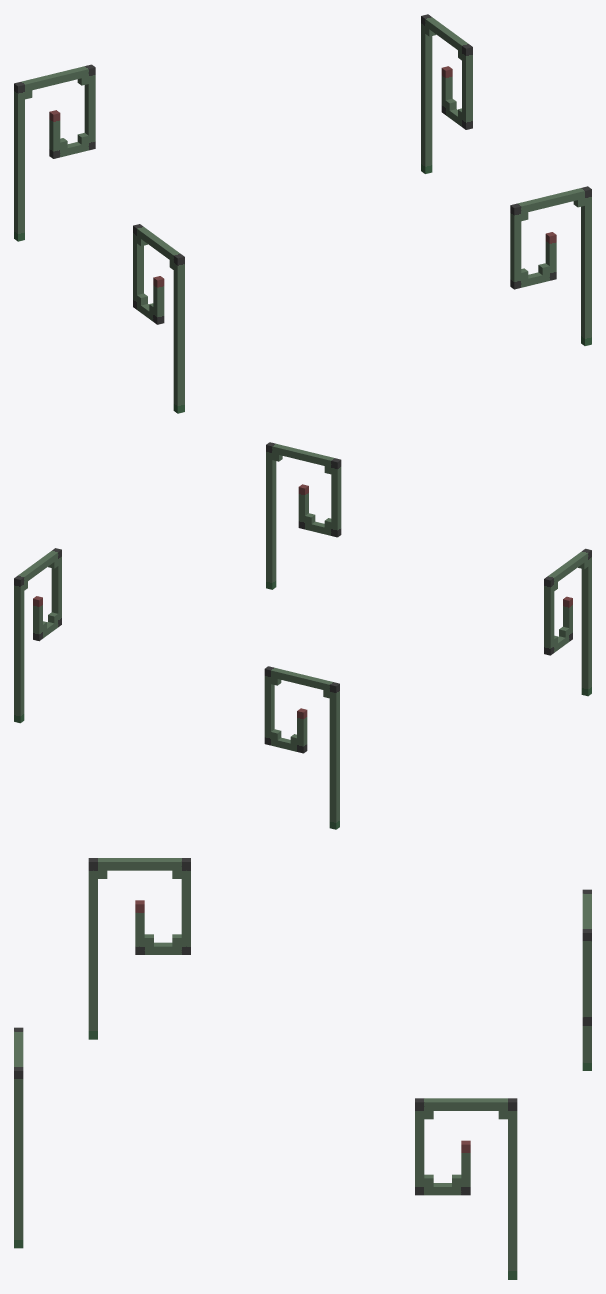
File: pattern_1.glb
The picture shows the model from 3 angles, top to bottom: view 1: azimuth 30°, elevation 25°; view 2: azimuth 150°, elevation 25°; view 3: azimuth 270°, elevation 25°; orthographic projection. The views are drawn at different scales.
Parts seen in each view (by area): view 1: crate_pattern_1; view 2: crate_pattern_1; view 3: crate_pattern_1.
Boxes of the visible parts, x1,y1,x2,y2 form: crate_pattern_1: [14, 14, 591, 413]; crate_pattern_1: [14, 442, 591, 829]; crate_pattern_1: [14, 858, 591, 1279].
Size of the model in its own units: 6.2 by 2.1 by 6.2.
1 material, 1 textured.
